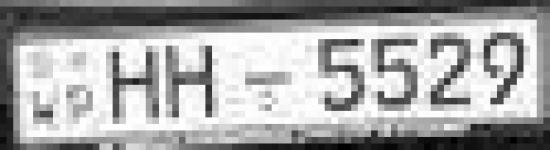-: (240, 66, 295, 88)
2: (424, 30, 477, 112)
5: (309, 29, 369, 116), (370, 30, 424, 114)
9: (479, 25, 531, 110)
H: (104, 42, 164, 126), (166, 42, 222, 123)
P: (62, 79, 98, 133)
W: (27, 84, 63, 137)
